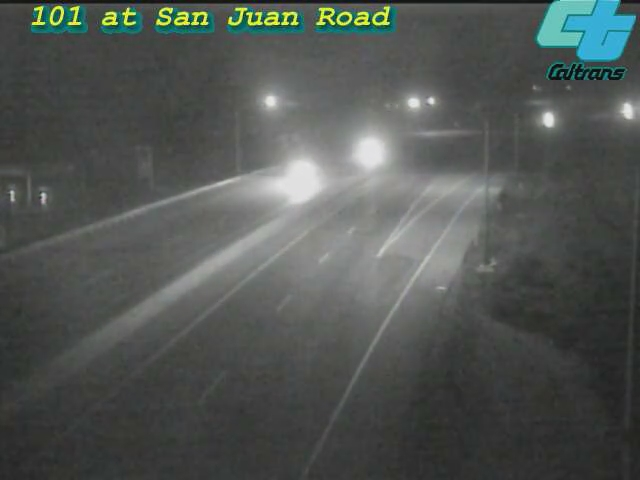vehicle: (257, 133, 337, 213), (320, 113, 400, 193), (522, 96, 572, 146), (600, 86, 640, 136)
